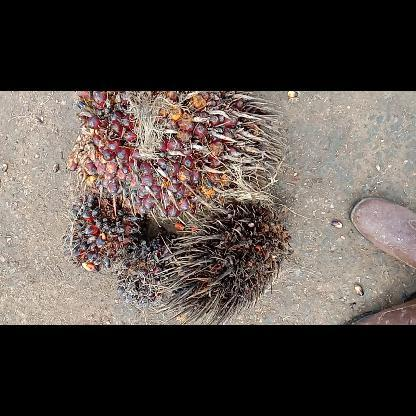Janjang kosong: (159, 196, 293, 324)
TBS abnormal: (60, 193, 148, 273), (108, 224, 184, 310)
TBS masak: (63, 91, 283, 223)
